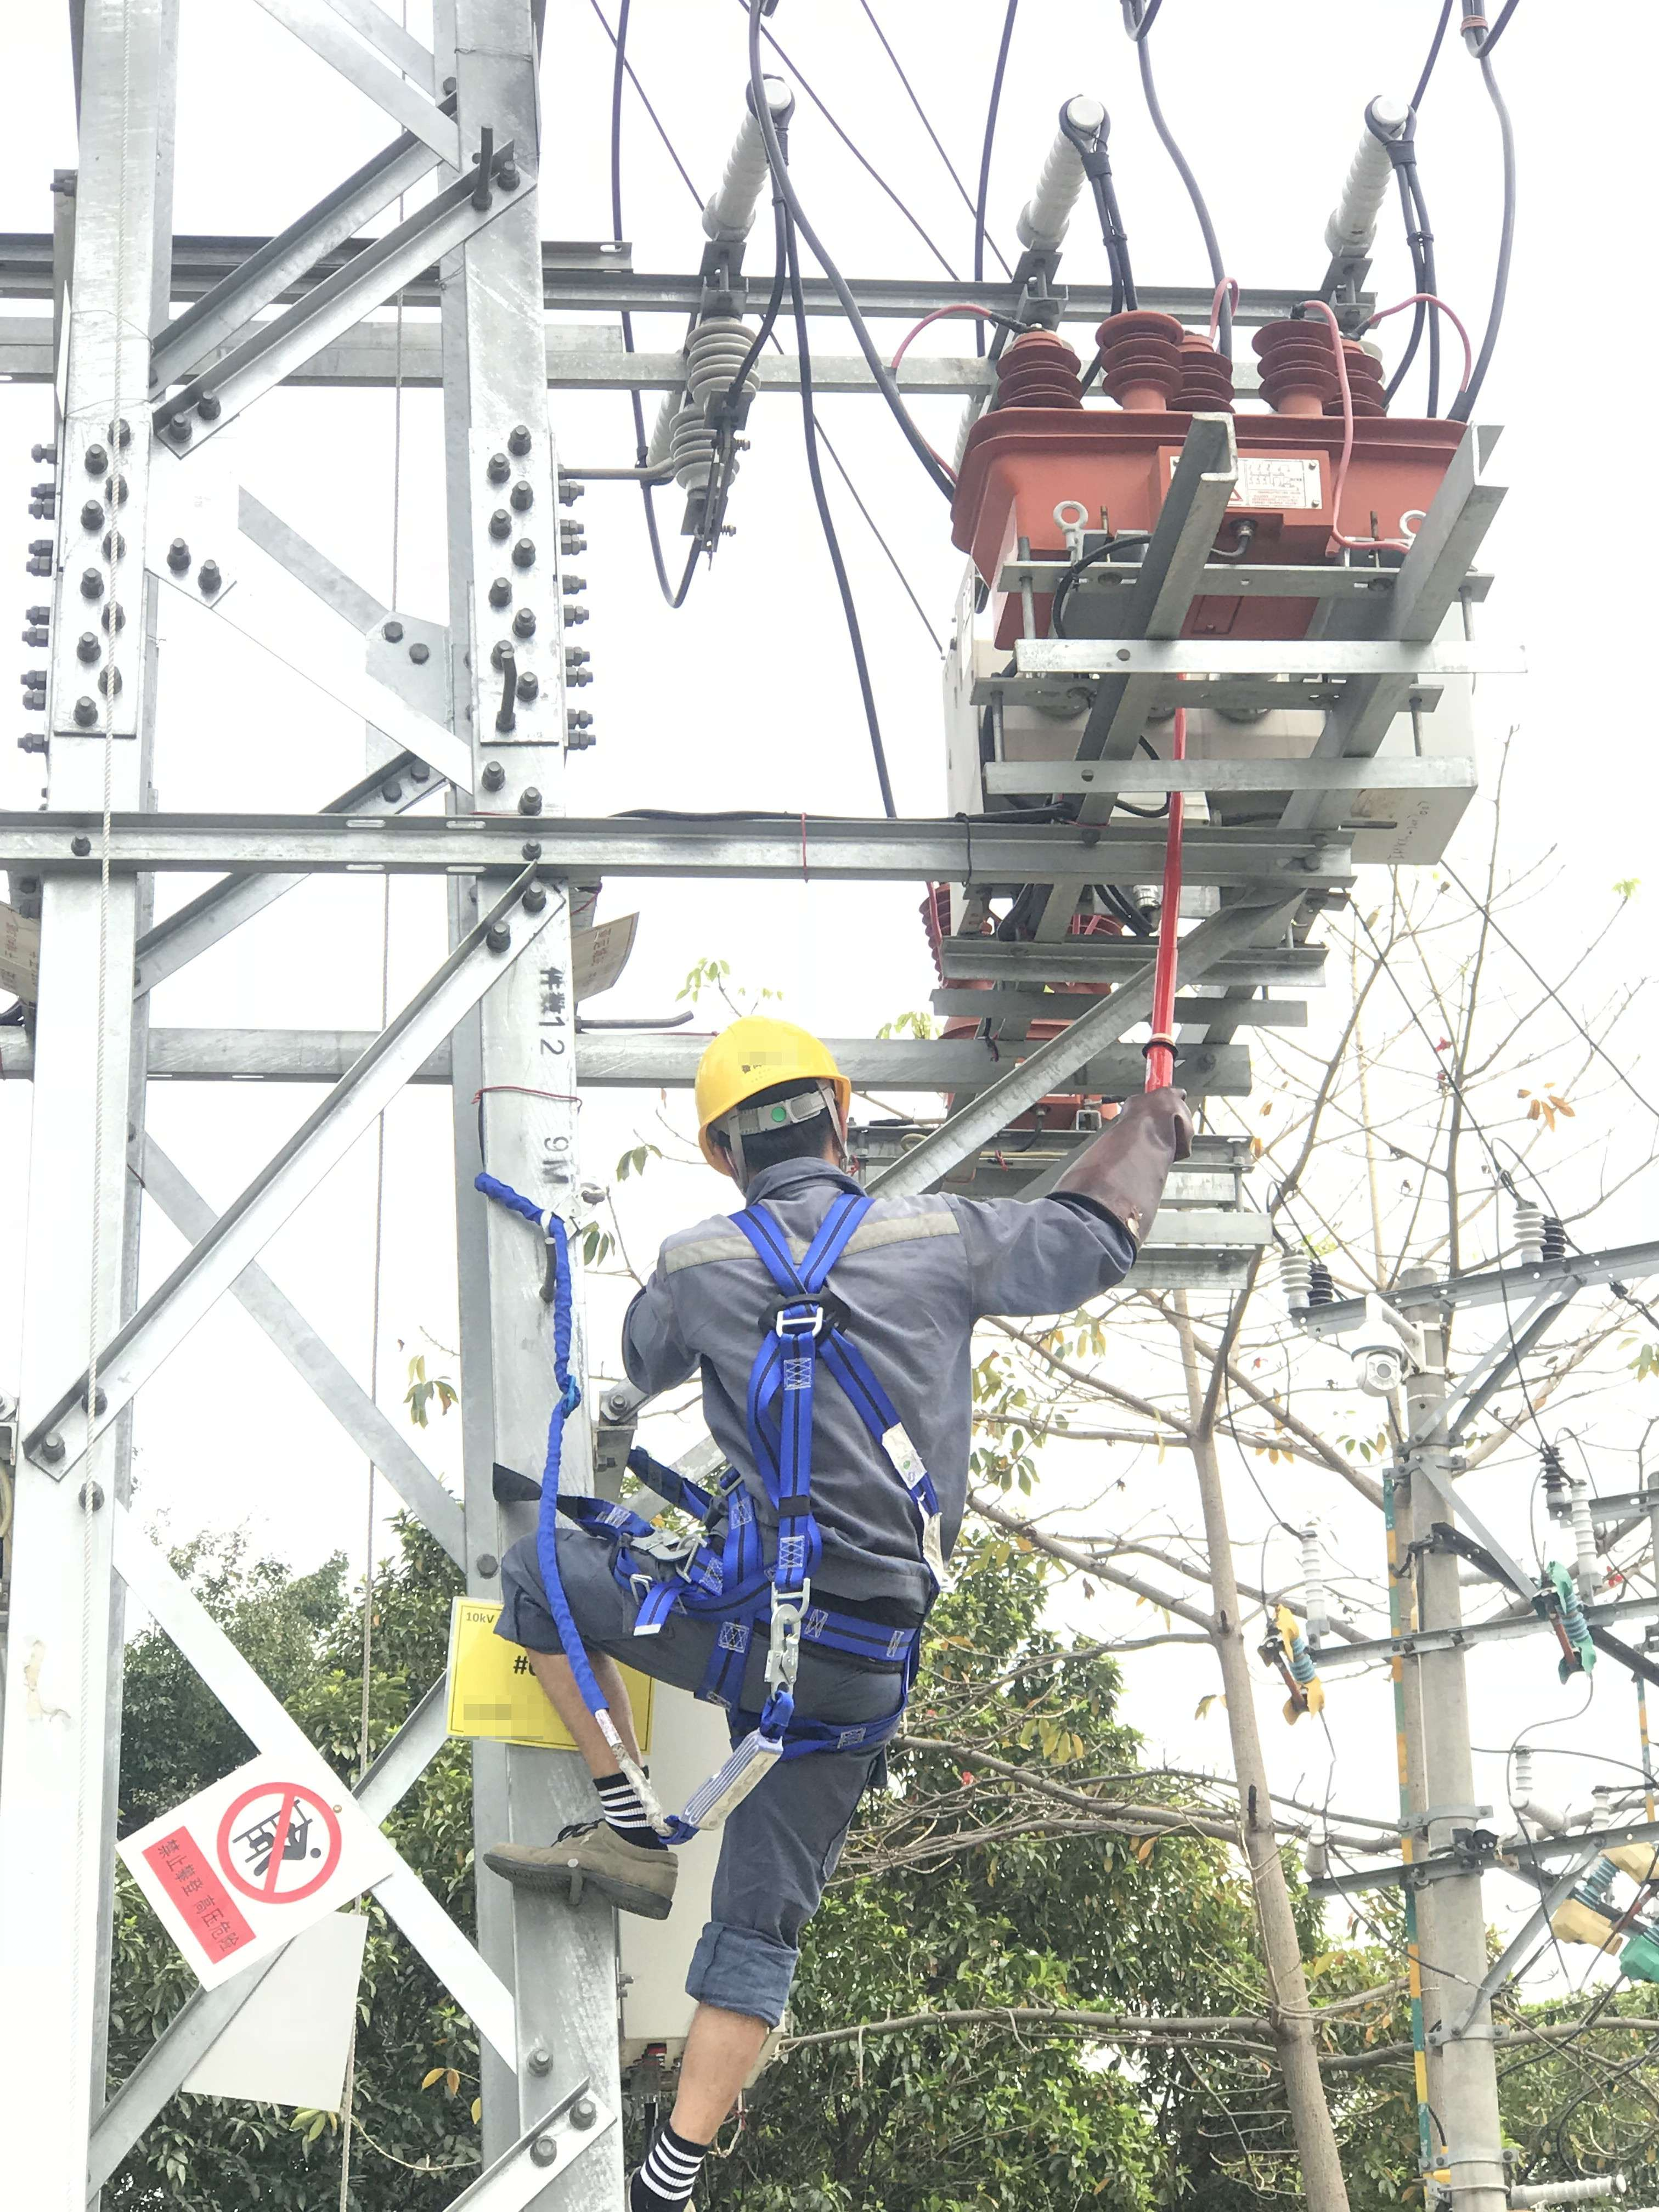downsuit: (500, 1510, 910, 2088)
upsuit: (613, 1160, 1117, 1608)
wrongbottom: (662, 1947, 784, 2175), (504, 1604, 647, 1763)
